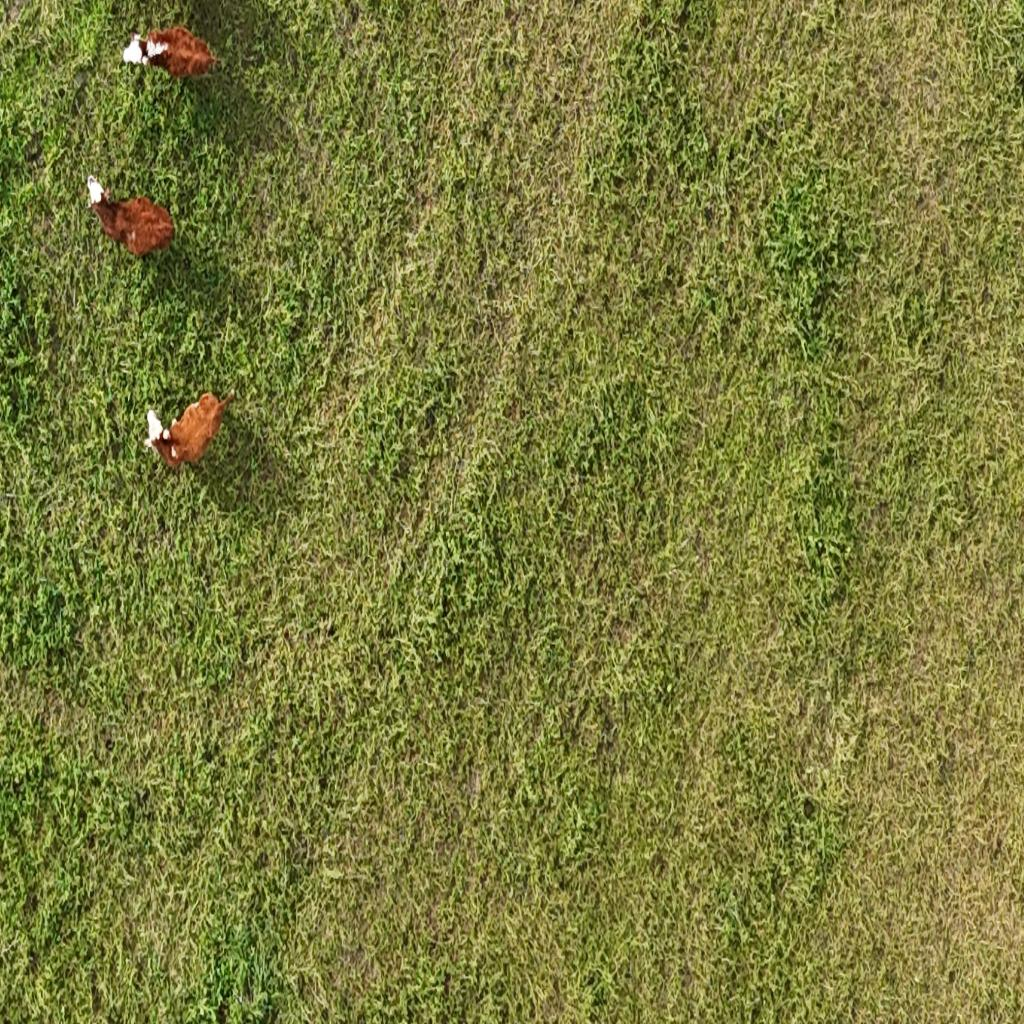cow: (84, 170, 178, 264), (140, 384, 236, 472), (122, 15, 226, 86)
